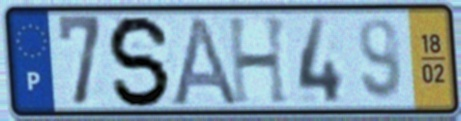4: (293, 14, 349, 107)
7: (54, 12, 105, 110)
9: (354, 16, 405, 103)
A: (167, 13, 242, 108)
H: (225, 13, 292, 107)
S: (106, 12, 175, 109)
